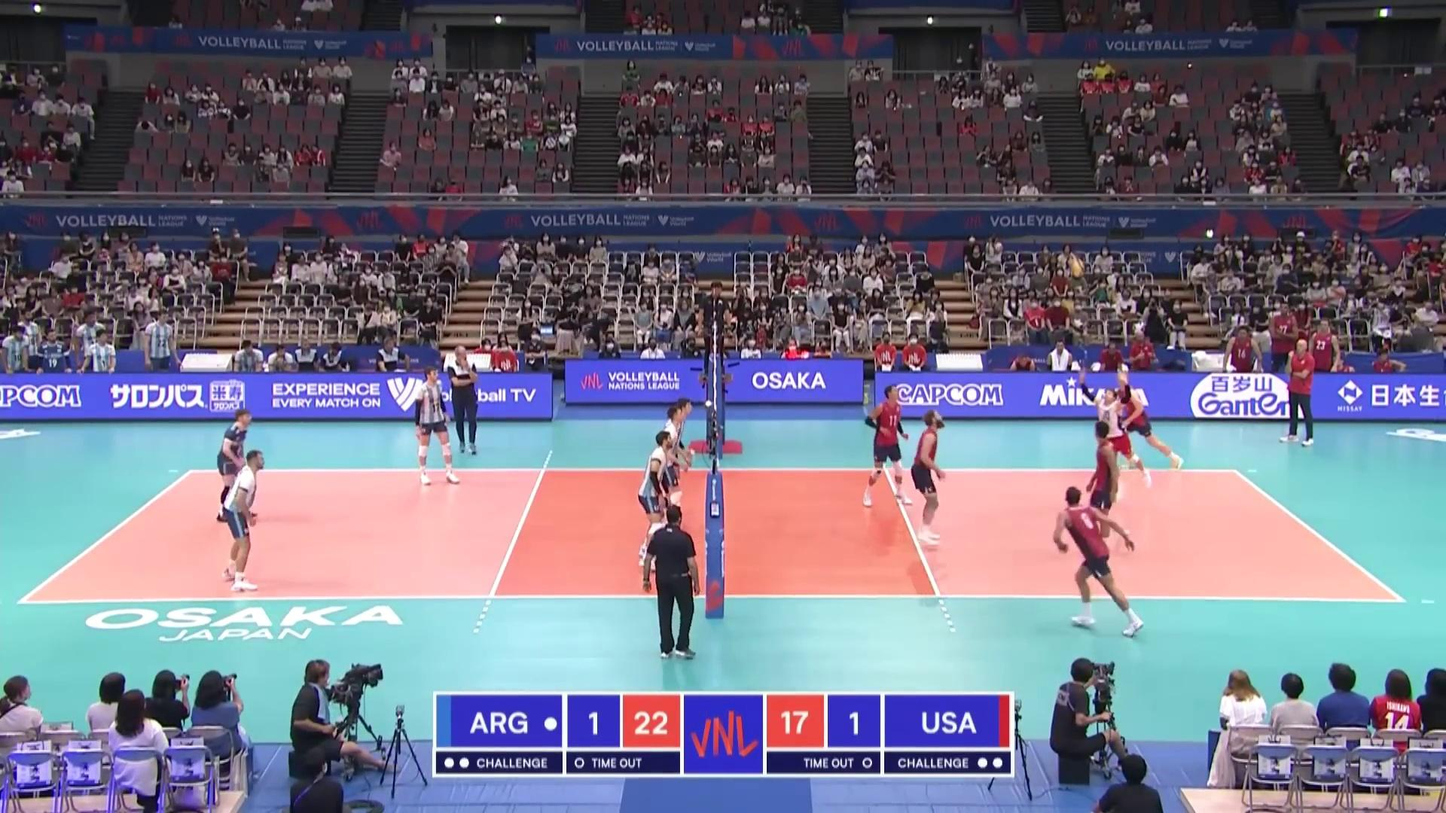player: (1052, 487, 1146, 636), (1076, 367, 1152, 490), (1108, 385, 1187, 471), (862, 386, 913, 508), (224, 448, 267, 589), (907, 409, 951, 546), (635, 432, 676, 572), (412, 367, 458, 487), (214, 407, 256, 522), (1085, 423, 1120, 550), (655, 406, 685, 539), (664, 398, 693, 513)
refree: (643, 511, 698, 659), (698, 281, 735, 388)
